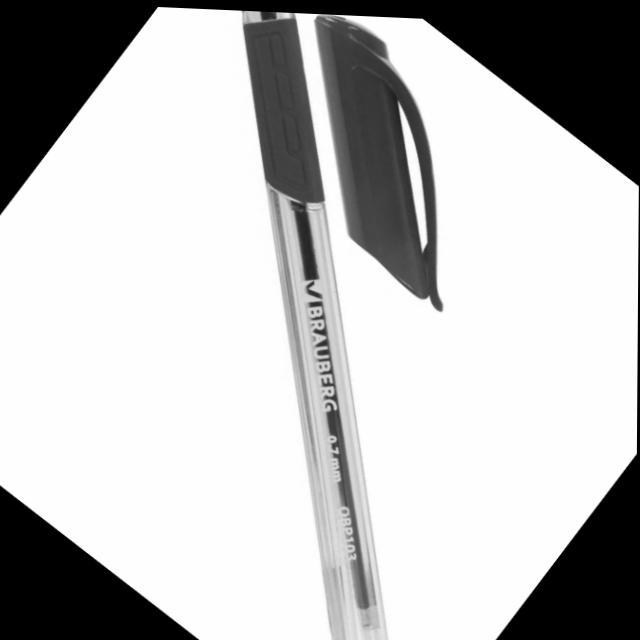pencil: (222, 5, 468, 632)
